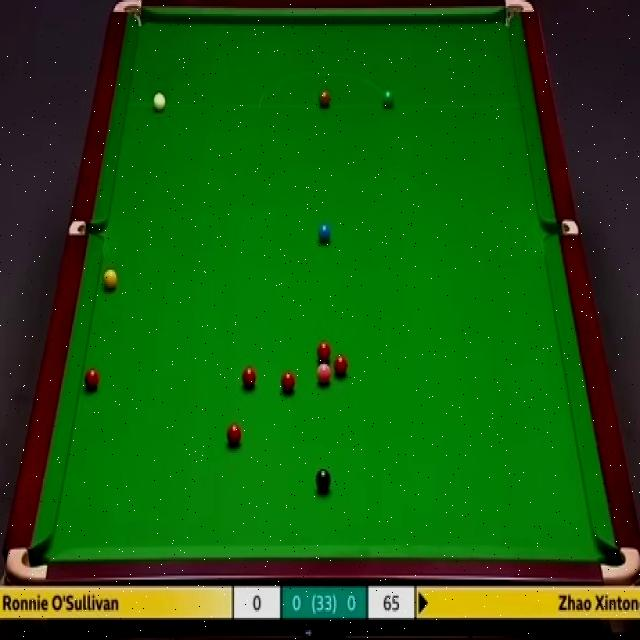black-ball: (316, 467, 332, 494)
blue-ball: (317, 221, 332, 245)
brown-ball: (318, 90, 331, 109)
green-ball: (382, 88, 395, 111)
pink-ball: (318, 362, 332, 386)
red-ball: (280, 370, 297, 398), (334, 354, 351, 381), (226, 422, 243, 448), (242, 365, 258, 392), (84, 366, 99, 393), (318, 339, 332, 364)
white-ball: (151, 90, 166, 112)
yellow-ball: (103, 265, 117, 289)
